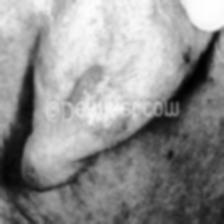Potentially Malignant Skin Tumors: (68, 72, 126, 136)
